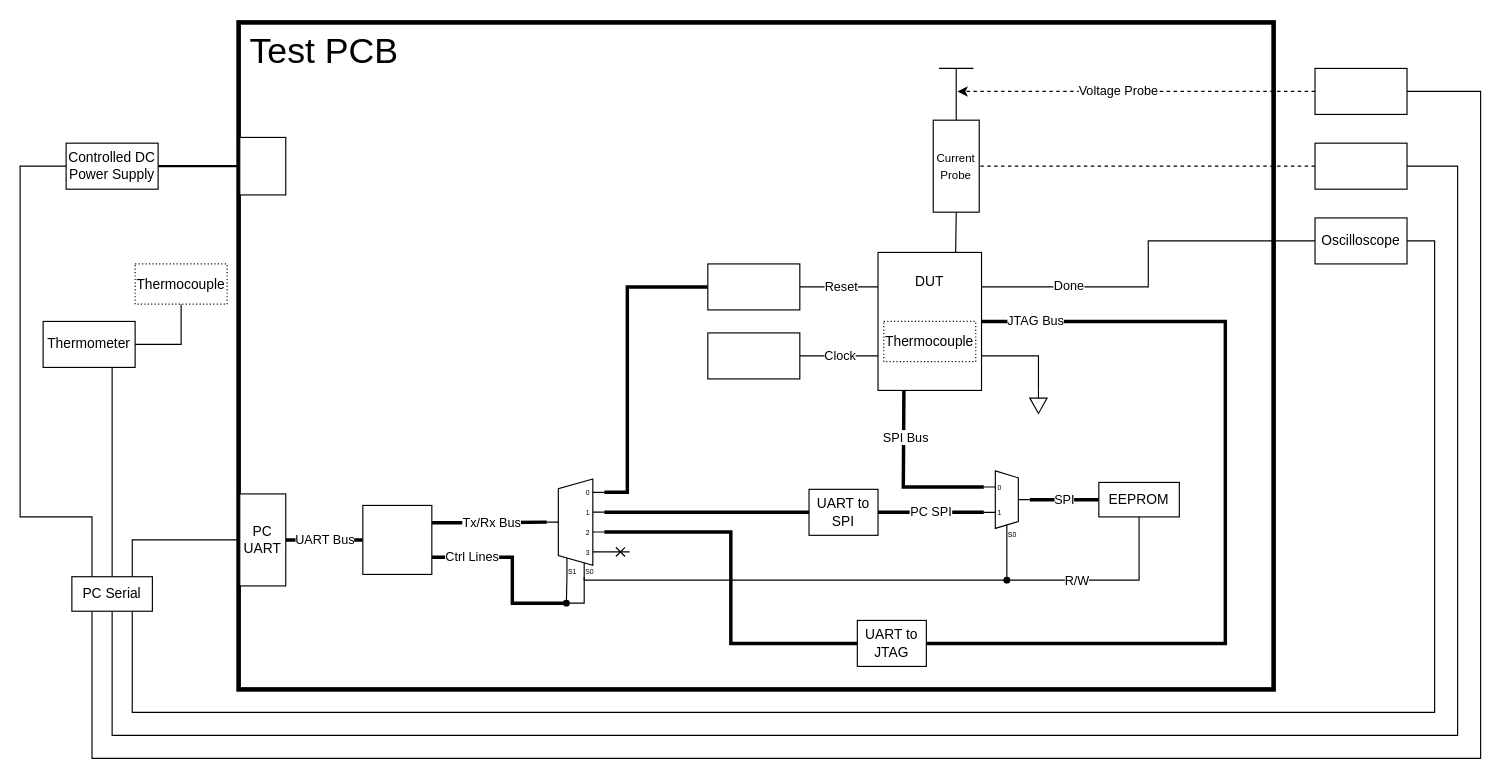
This 1502x780 diagram has some shape labels left out. The centre of each missing label's shape, as x and y in pixels:
Clock generator: the point at 753,355
Current Meter: the point at 1360,165
DC IN: the point at 262,165
Power-on Reset: the point at 753,286
UART Controller: the point at 397,539
V dd: the point at 955,85
Voltage Meter: the point at 1360,90
